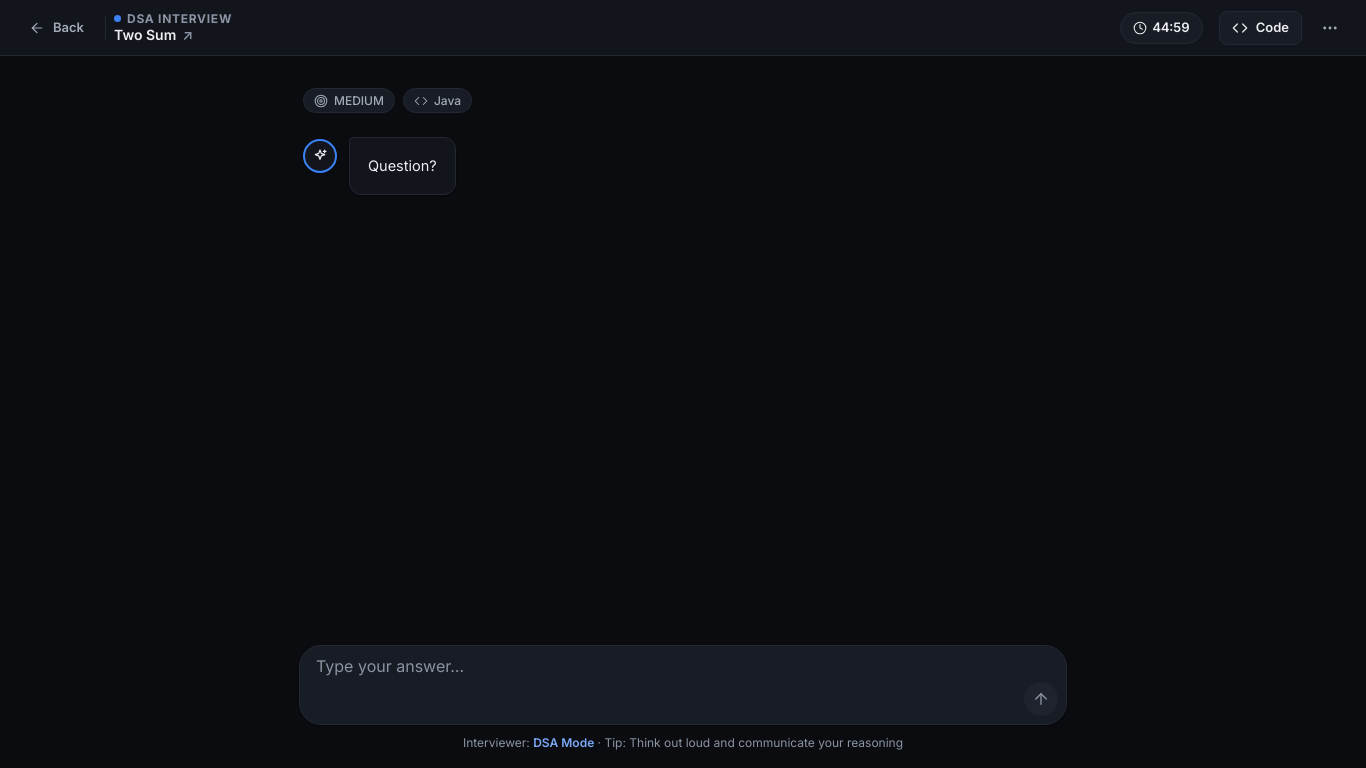
Scenario: sends a message and shows the reply
Check: the text "Question?" is shown, box [368,154,437,178]
In the text box with placeholder "Type your answer…": (683, 662) [300,646,1066,678], type "Use a hash map"
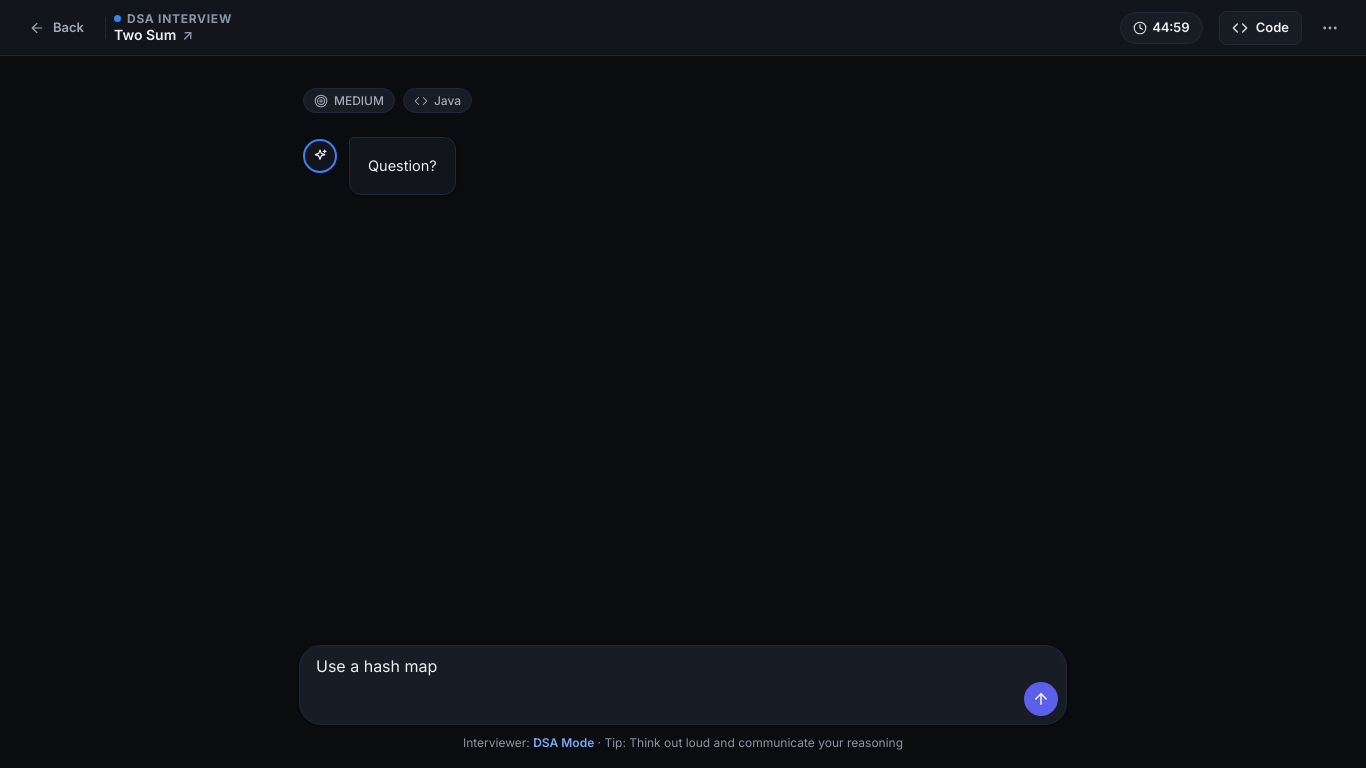
Click the button named "Send message": (1041, 699) [1024,682,1058,716]
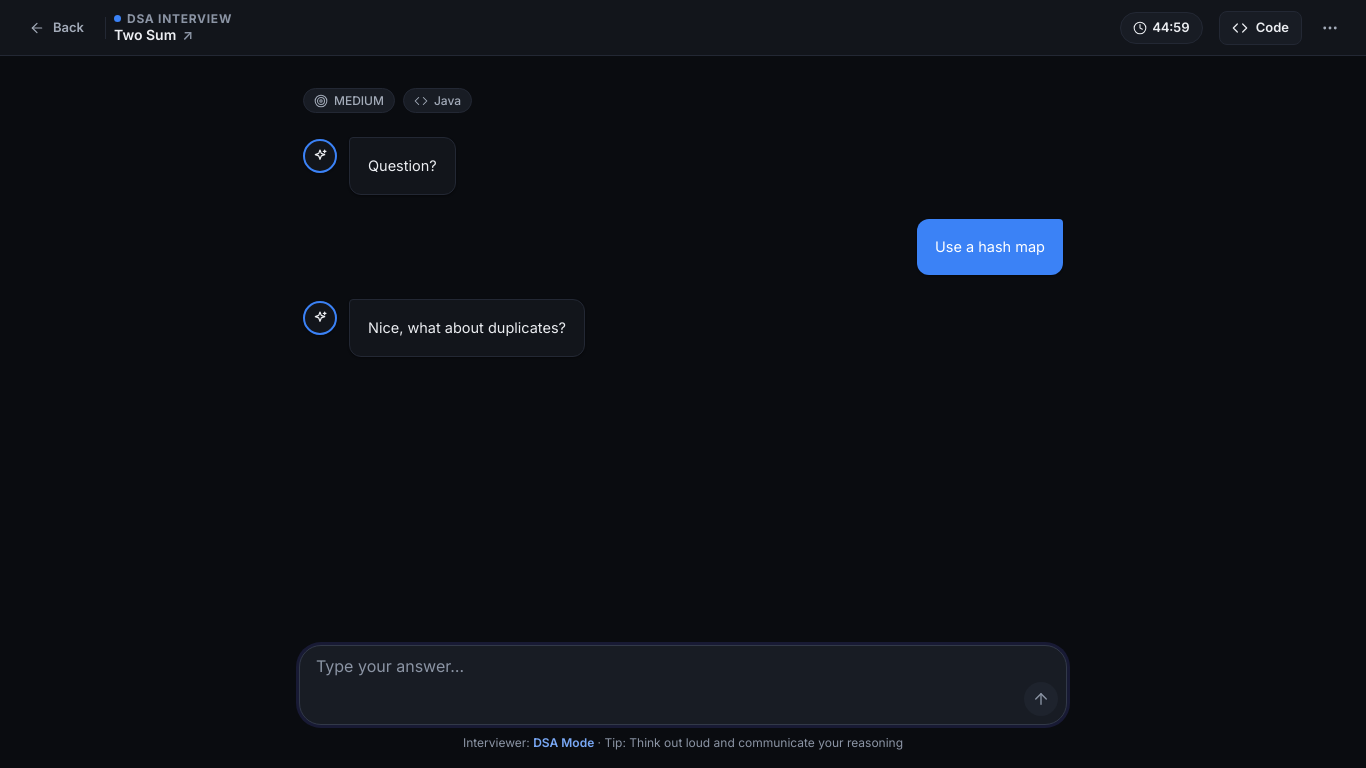
Check: the text "Nice, what about duplicates?" is shown, box [368,316,566,340]
Check: the text "Use a hash map" is shown, box [935,235,1045,259]
